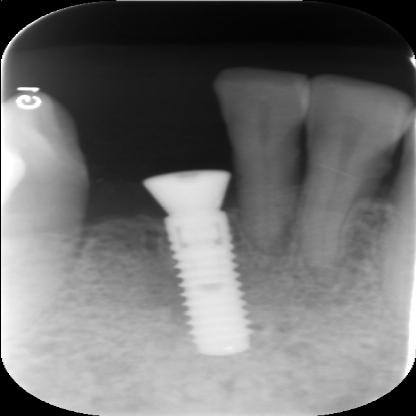ITI: (148, 210, 261, 364)
